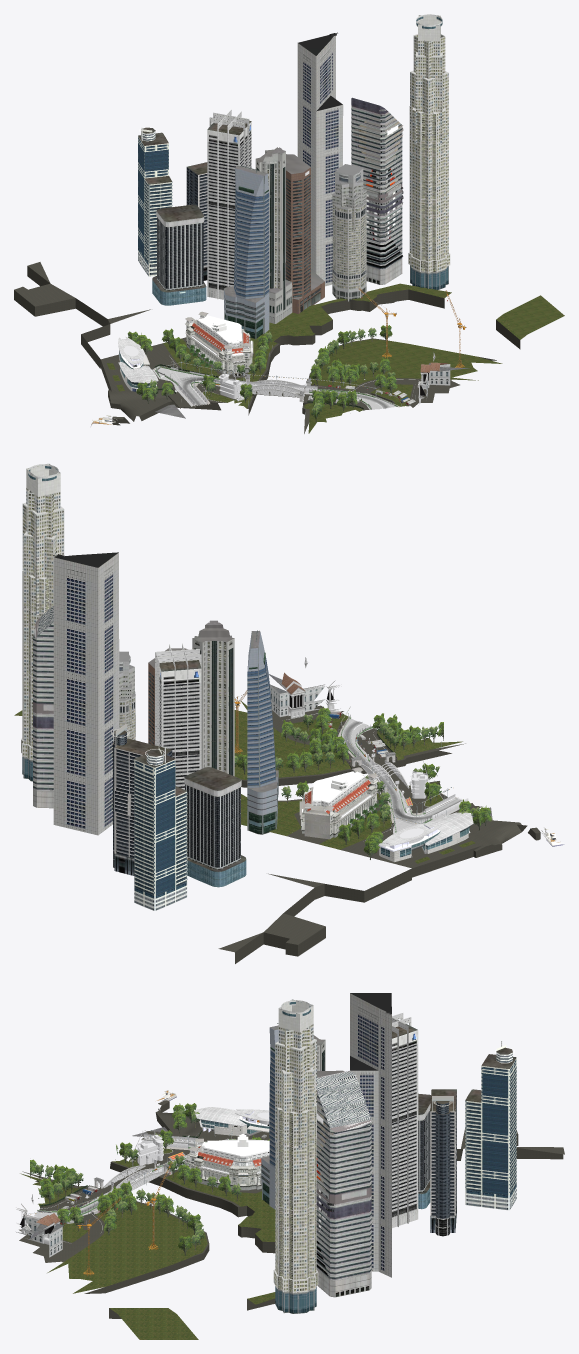
3 renders of one model, top to bottom at view 1: azimuth 30°, elevation 25°; view 2: azimuth 150°, elevation 25°; view 3: azimuth 270°, elevation 25°, orthographic. The views are drawn at different scales.
Visible parts, largest first — view 1: m56_t07, m57_t07, m96_t07, m55_t07, m97_t07, m58_t07, m40_t07, m14_t07, m31_t07, m44_t07, m0_t07, m62_t07 (+4 smaller); view 2: m57_t07, m58_t07, m56_t07, m96_t07, m55_t07, m14_t07, m97_t07, m40_t07, m31_t07, m62_t07, m63_t07, m0_t07 (+2 smaller); view 3: m57_t07, m55_t07, m97_t07, m40_t07, m58_t07, m96_t07, m14_t07, m31_t07, m56_t07, m62_t07, m0_t07, m63_t07 (+3 smaller).
Boxes of the visible parts, x1,y1,x2,y2 form: m56_t07: (224, 147, 366, 339); m57_t07: (138, 110, 251, 305); m96_t07: (14, 262, 520, 433); m55_t07: (408, 14, 450, 289); m97_t07: (107, 283, 564, 433); m58_t07: (297, 32, 343, 286); m40_t07: (351, 97, 402, 284); m14_t07: (127, 325, 397, 422); m31_t07: (185, 311, 253, 376); m44_t07: (353, 109, 403, 267); m0_t07: (105, 345, 425, 419); m62_t07: (118, 337, 158, 391); m57_t07: (110, 643, 246, 910); m58_t07: (53, 552, 119, 835); m56_t07: (119, 620, 278, 834); m96_t07: (218, 705, 540, 963); m55_t07: (21, 463, 64, 781); m14_t07: (234, 706, 492, 859); m97_t07: (14, 700, 475, 863); m40_t07: (33, 606, 53, 808); m31_t07: (299, 767, 378, 839); m62_t07: (378, 812, 473, 862); m63_t07: (268, 657, 341, 718); m0_t07: (303, 700, 547, 843); m57_t07: (392, 1013, 516, 1236); m55_t07: (273, 999, 318, 1313); m97_t07: (20, 1148, 275, 1339); m40_t07: (316, 1070, 371, 1297); m58_t07: (350, 993, 391, 1277); m96_t07: (19, 1100, 564, 1318); m14_t07: (30, 1103, 269, 1255); m31_t07: (185, 1134, 269, 1190); m56_t07: (261, 1023, 344, 1209); m62_t07: (194, 1107, 269, 1138); m0_t07: (24, 1094, 269, 1225); m63_t07: (16, 1194, 63, 1257).
Bounding box in the file's own units: 621 × 349 × 562.
37 materials, 36 textured.
